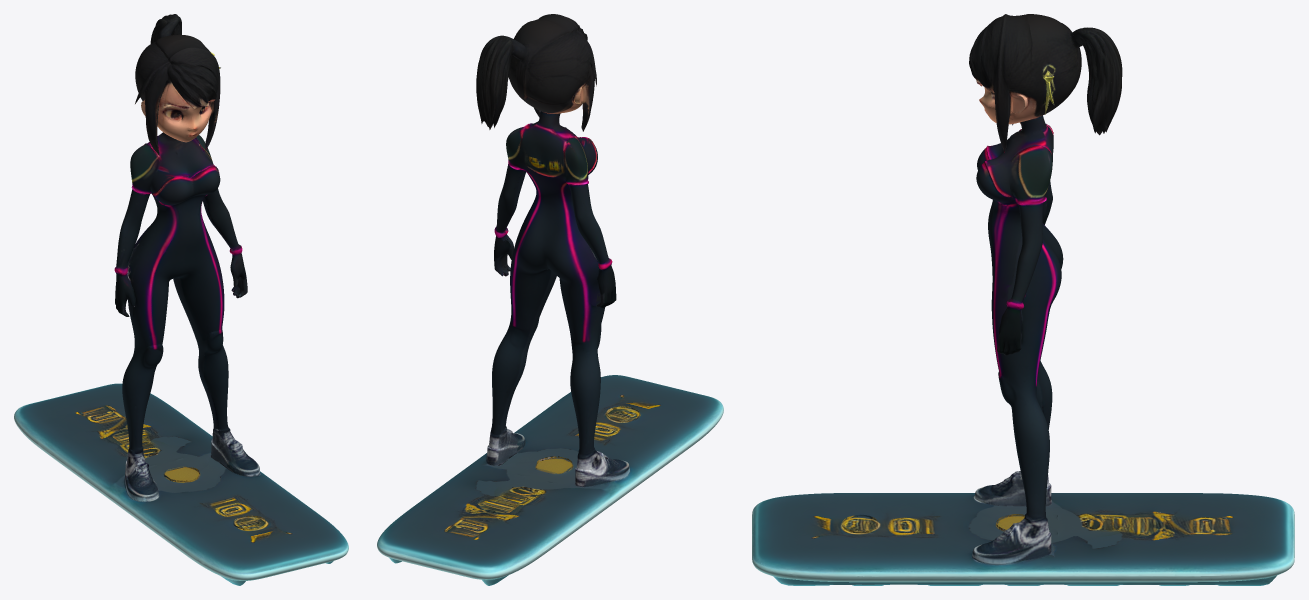
Rendered from player_game.glb.
3 renders of one model, left to right at view 1: azimuth 30°, elevation 25°; view 2: azimuth 150°, elevation 25°; view 3: azimuth 270°, elevation 25°, orthographic. The views are drawn at different scales.
Visible parts, largest first — view 1: model; view 2: model; view 3: model.
Boxes of the visible parts, <box> form: model: <box>14,14,348,585</box>; model: <box>377,14,723,585</box>; model: <box>752,14,1294,585</box>.
Size of the model in its own units: 0.5903 by 1.9 by 1.72.
Materials: 1 (1 with a texture image).
